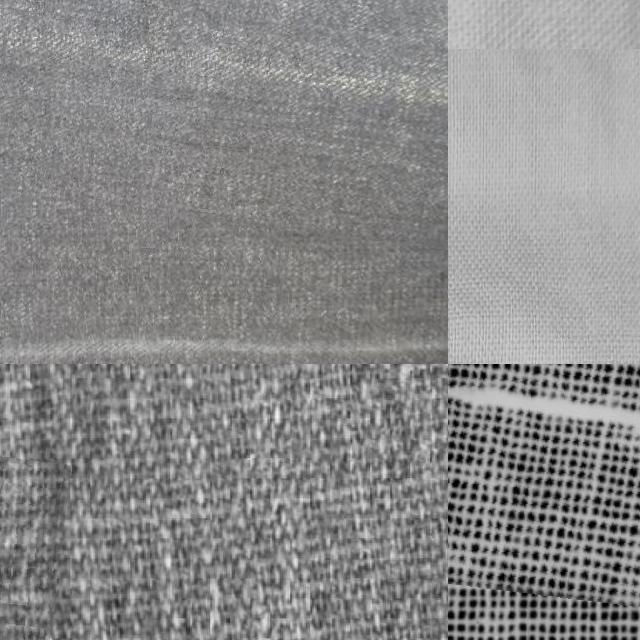other: (0, 448, 64, 640)
stains: (448, 364, 640, 620)
